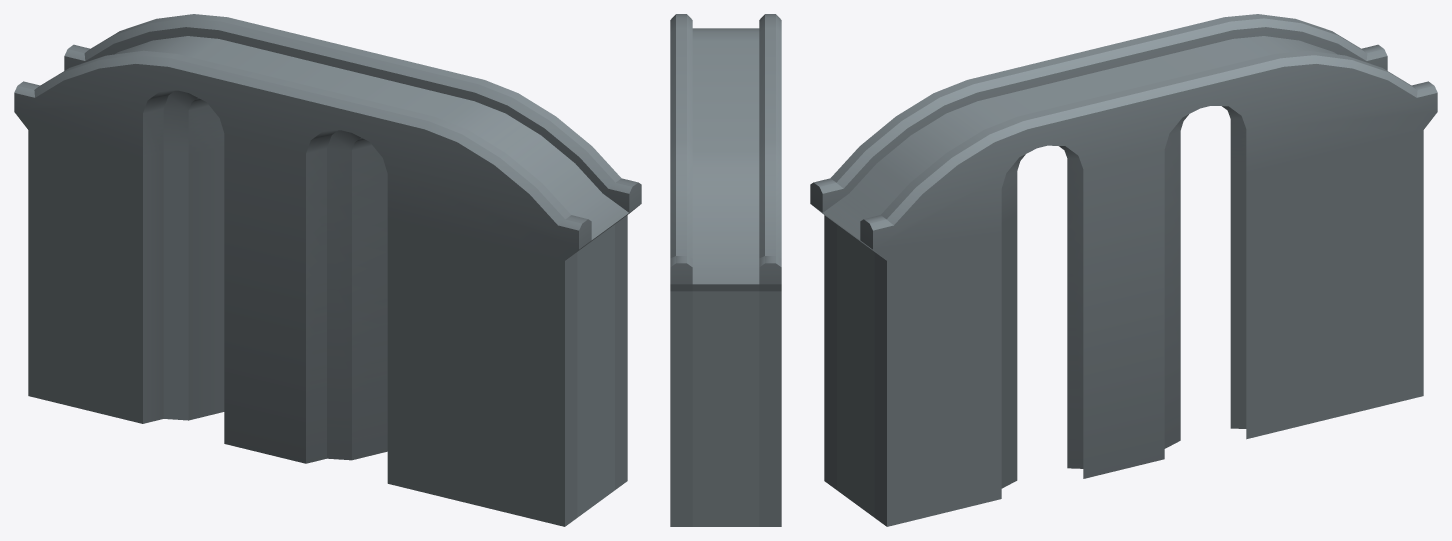
Rendered from building_bridge_A.gltf.
3 renders of one model, left to right at view 1: azimuth 30°, elevation 25°; view 2: azimuth 150°, elevation 25°; view 3: azimuth 270°, elevation 25°, orthographic. The views are drawn at different scales.
Parts seen in each view (by area): view 1: building_bridge_A; view 2: building_bridge_A; view 3: building_bridge_A.
Part boxes in pixels (box(x1,y1,x2,y2)): building_bridge_A: box(14, 14, 641, 526); building_bridge_A: box(670, 14, 781, 526); building_bridge_A: box(810, 14, 1437, 526).
Bounding box in the file's own units: 1.33 × 1.25 × 1.92.
1 material, 1 textured.
